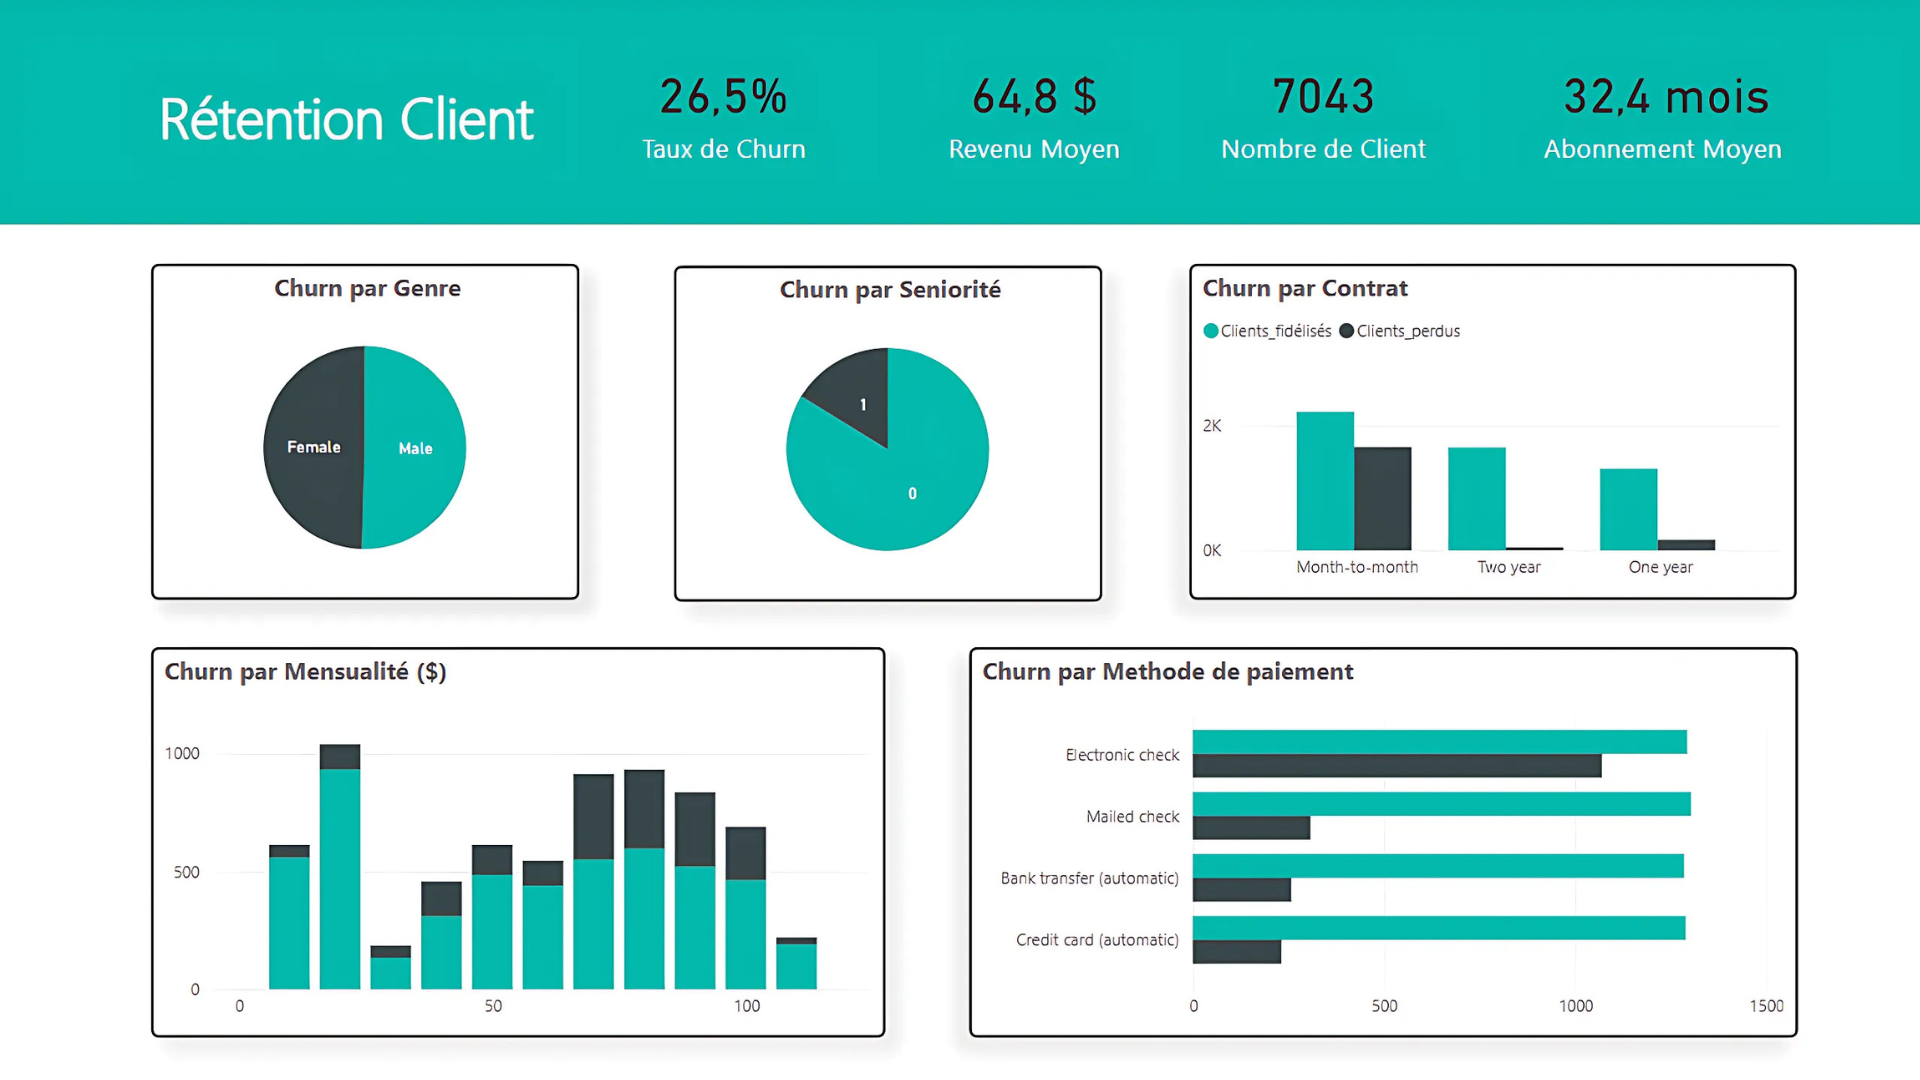

What the dashboard file says about the page in this screenshot:
{"tool":"powerbi","page":{"name":"Page 1","canvas":[1280,720],"ordinal":0},"visuals":[{"type":"shape","box":[0,0,1280.5,150.6],"z":0},{"type":"card","fields":{"Values":["CH.RevenuMoyenParClient"]},"box":[580.2,11.4,213,124.7],"z":2000},{"type":"card","fields":{"Values":["CountNonNull(CH.customerID)"]},"box":[786,11.7,182.5,125],"z":3000},{"type":"clusteredBarChart","title":"Churn par Methode de paiement","fields":{"Y":["CH.ClientsChurnNo2","CH.ClientsChurnYes2"],"Category":["CH.PaymentMethod"]},"box":[642.9,429.9,548.1,258.4],"z":4000},{"type":"clusteredColumnChart","title":"Churn par Contrat","fields":{"Y":["CH.ClientsChurnNo2","CH.ClientsChurnYes2"],"Category":["CH.Contract"]},"box":[788.3,176.6,401.3,222.1],"z":5000},{"type":"lineStackedColumnComboChart","title":"Churn par Mensualité ($)","fields":{"Y":["CH.ClientsChurnNo2","CH.ClientsChurnYes2"],"Category":["CH.MonthlyCharges (compartiments)"]},"box":[102.6,430.2,485.7,258.4],"z":6000},{"type":"card","fields":{"Values":["Avg(CH.tenure)"]},"box":[961.3,11.7,285.7,125],"z":7000},{"type":"pieChart","title":"Churn par Genre","fields":{"Y":["CountNonNull(CH.Churn)"],"Category":["CH.gender"]},"box":[102.6,177,283,222.1],"z":8000},{"type":"pieChart","title":"Churn par Seniorité","fields":{"Y":["CountNonNull(CH.Churn)"],"Category":["CH.SeniorCitizen"]},"box":[448.1,177.9,283.1,222.1],"z":9000},{"type":"card","fields":{"Values":["CH.TauxChurnGlobal"]},"box":[374.3,11.4,213,124.7],"z":9001},{"type":"textbox","box":[102.6,48.1,275.3,68.8],"z":9002}]}

Visuals, with their boxes in screenshot pixels (x1, y1, x2, y2), scaled from the page's 1280x720 canvas onto the 1920x1080 screenshot:
shape: x1=0 y1=0 x2=1919 y2=226
card - CH.RevenuMoyenParClient: x1=870 y1=17 x2=1190 y2=204
card - CountNonNull(CH.customerID): x1=1179 y1=18 x2=1453 y2=205
"Churn par Methode de paiement" clusteredBarChart: x1=964 y1=645 x2=1786 y2=1032
"Churn par Contrat" clusteredColumnChart: x1=1182 y1=265 x2=1784 y2=598
"Churn par Mensualité ($)" lineStackedColumnComboChart: x1=154 y1=645 x2=882 y2=1033
card - Avg(CH.tenure): x1=1442 y1=18 x2=1870 y2=205
"Churn par Genre" pieChart: x1=154 y1=266 x2=578 y2=599
"Churn par Seniorité" pieChart: x1=672 y1=267 x2=1097 y2=600
card - CH.TauxChurnGlobal: x1=561 y1=17 x2=881 y2=204
textbox: x1=154 y1=72 x2=567 y2=175
